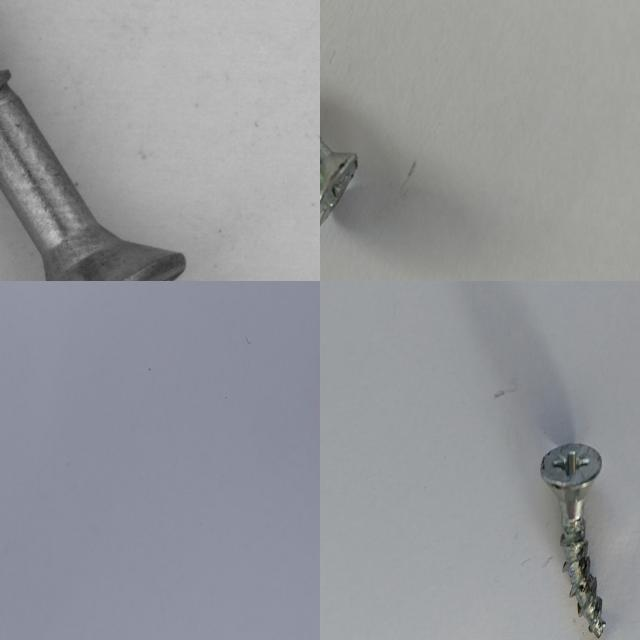Screw: (0, 0, 233, 281), (541, 443, 606, 638), (320, 135, 357, 225)
